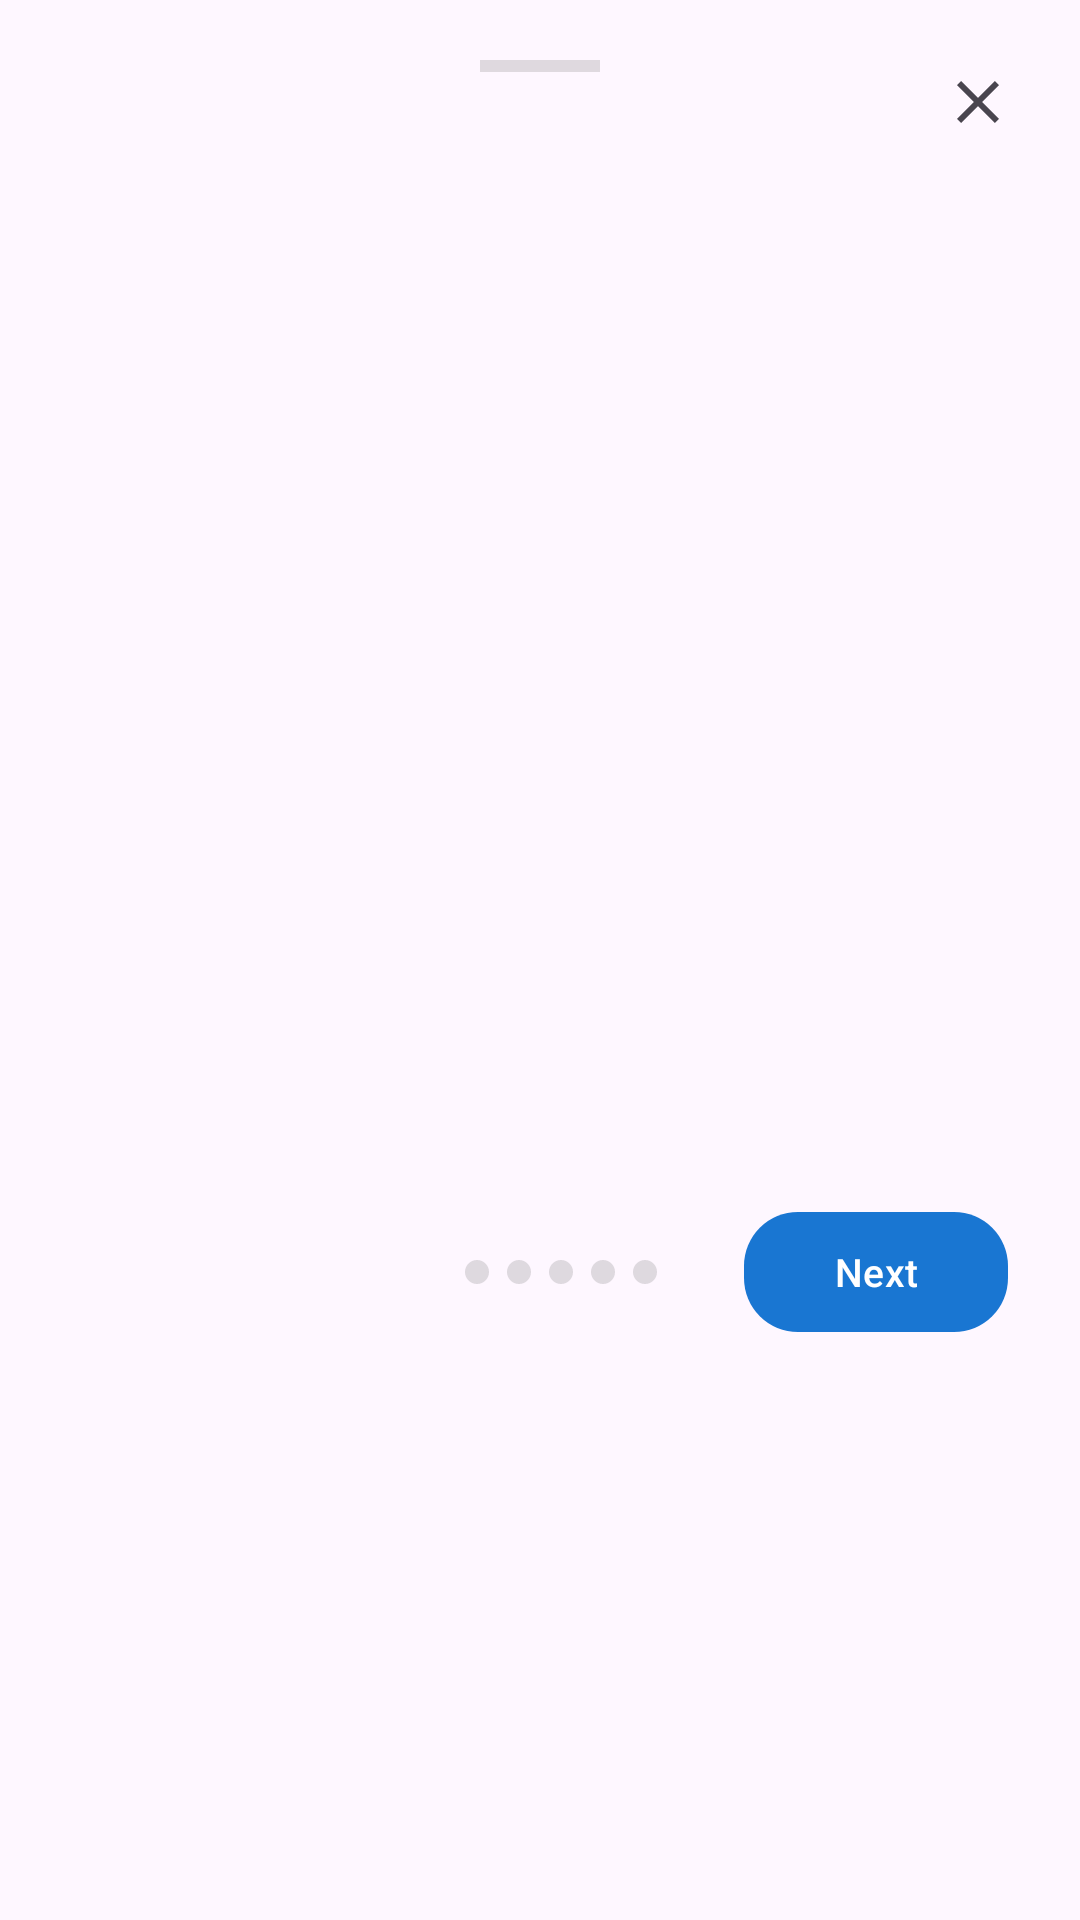

Screen size 1080 × 1920. Icon name, then its center in pixels as point (x, y):
Close: point (978, 102)
